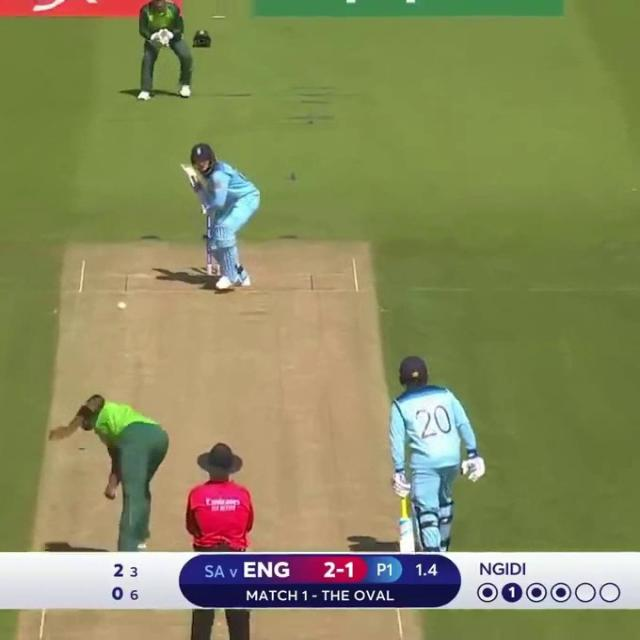bat: (399, 517, 414, 552), (179, 164, 200, 184)
